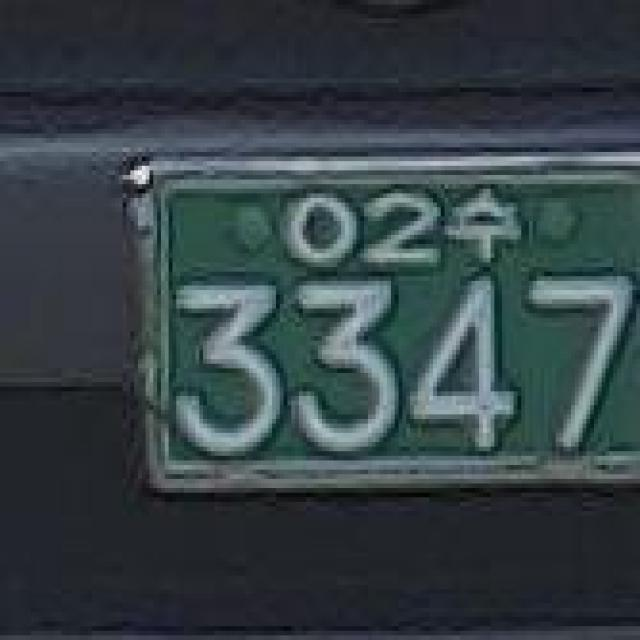illegal_plate: (130, 132, 640, 512)
